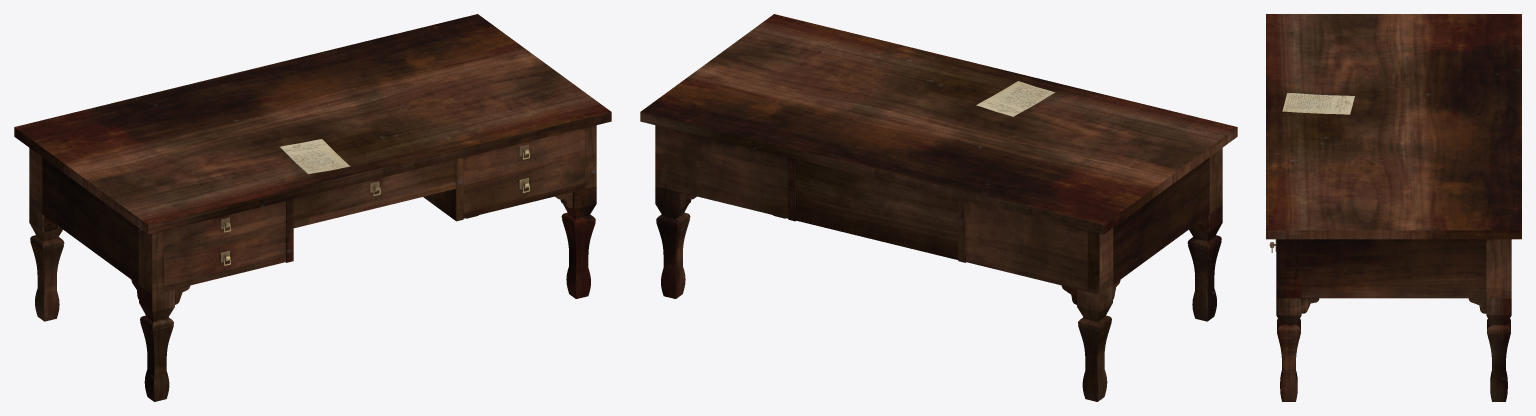
The model's file is antique_desk.glb.
The picture shows the model from 3 angles, left to right: view 1: azimuth 30°, elevation 25°; view 2: azimuth 150°, elevation 25°; view 3: azimuth 270°, elevation 25°; orthographic projection. The views are drawn at different scales.
Parts seen in each view (by area): view 1: desk-top, desk-drawer, desk-legs, task-paper, desk-handles; view 2: desk-top, desk-drawer, desk-legs, task-paper; view 3: desk-top, desk-drawer, desk-legs, task-paper.
Part boxes in pixels (left/top/right/bottom): desk-top: left=14, top=14, right=611, bottom=234; desk-drawer: left=42, top=128, right=584, bottom=291; desk-legs: left=29, top=125, right=596, bottom=401; task-paper: left=279, top=139, right=350, bottom=174; desk-handles: left=220, top=144, right=529, bottom=265; desk-top: left=640, top=14, right=1237, bottom=234; desk-drawer: left=667, top=128, right=1209, bottom=291; desk-legs: left=655, top=125, right=1222, bottom=401; task-paper: left=976, top=81, right=1054, bottom=116; desk-top: left=1266, top=14, right=1521, bottom=239; desk-drawer: left=1301, top=239, right=1486, bottom=298; desk-legs: left=1276, top=239, right=1511, bottom=401; task-paper: left=1282, top=93, right=1354, bottom=114.
Size of the model in its own units: 2.4 by 0.9296 by 1.2.
Materials: 5 (5 with a texture image).
